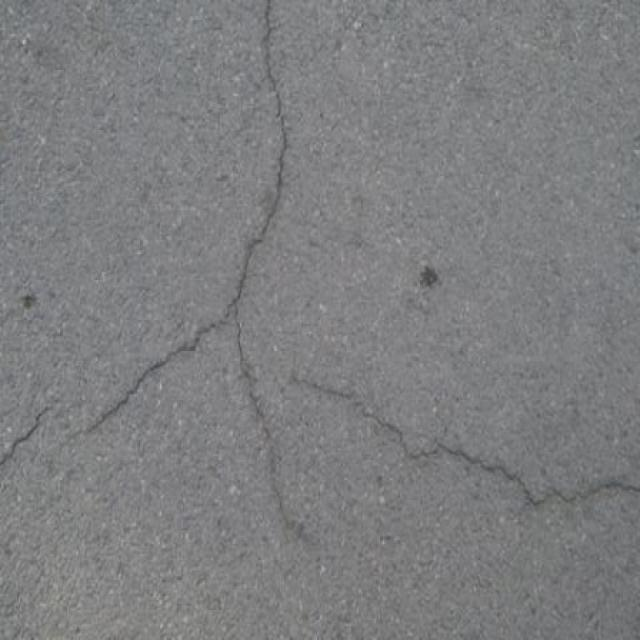Diagonal Crack: (53, 1, 337, 575), (290, 366, 640, 522), (3, 387, 78, 481), (417, 258, 455, 303), (13, 278, 45, 322)
